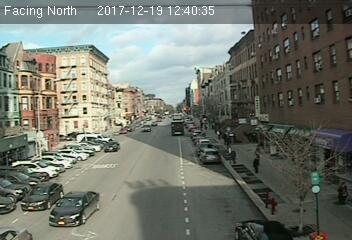car: (48, 190, 102, 226), (20, 181, 63, 211), (199, 149, 219, 161), (104, 141, 119, 154)
ups: (170, 121, 186, 137)
